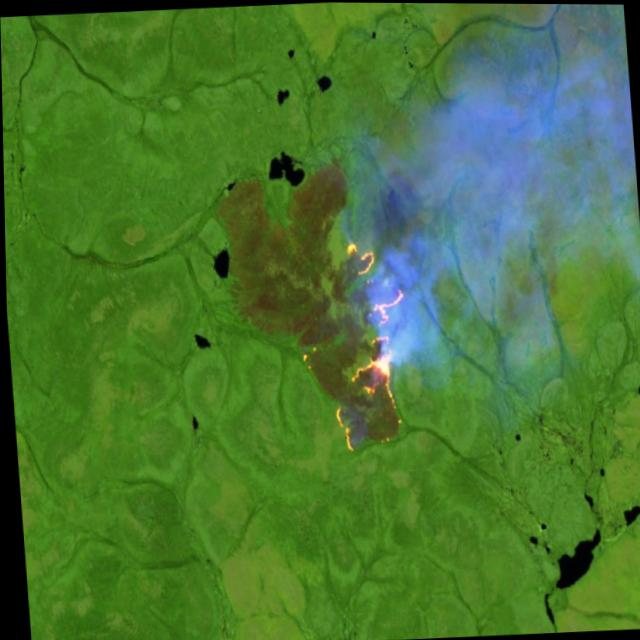fire: (314, 232, 416, 455)
